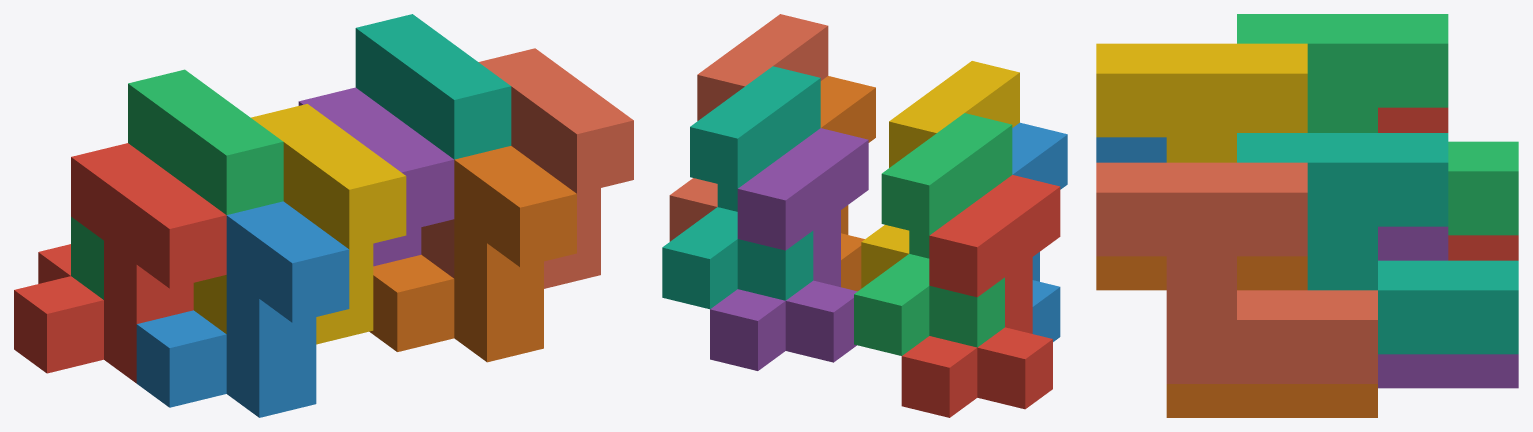
File: tiling.obj
The picture shows the model from 3 angles, left to right: view 1: azimuth 30°, elevation 25°; view 2: azimuth 150°, elevation 25°; view 3: azimuth 270°, elevation 25°; orthographic projection. The views are drawn at different scales.
Parts seen in each view (by area): view 1: copy_1_domain_1, copy_1_domain_2, copy_1_domain_6, copy_1_domain_4, copy_1_domain_8, copy_1_domain_3, copy_1_domain_7, copy_1_domain_5; view 2: copy_1_domain_1, copy_1_domain_5, copy_1_domain_3, copy_1_domain_7, copy_1_domain_8, copy_1_domain_4, copy_1_domain_2, copy_1_domain_6; view 3: copy_1_domain_8, copy_1_domain_7, copy_1_domain_3, copy_1_domain_4, copy_1_domain_6, copy_1_domain_5, copy_1_domain_1, copy_1_domain_2.
Boxes of the visible parts, x1,y1,x2,y2 form: copy_1_domain_1: (14, 143, 226, 383); copy_1_domain_2: (136, 201, 349, 417); copy_1_domain_6: (369, 146, 576, 362); copy_1_domain_4: (193, 104, 406, 344); copy_1_domain_8: (421, 48, 633, 288); copy_1_domain_3: (71, 69, 283, 299); copy_1_domain_7: (355, 14, 511, 159); copy_1_domain_5: (298, 87, 454, 266); copy_1_domain_1: (901, 175, 1060, 417); copy_1_domain_5: (710, 128, 868, 370); copy_1_domain_3: (854, 113, 1012, 355); copy_1_domain_7: (662, 66, 820, 309); copy_1_domain_8: (669, 14, 828, 241); copy_1_domain_4: (861, 61, 1019, 288); copy_1_domain_2: (1012, 122, 1067, 341); copy_1_domain_6: (820, 76, 875, 291); copy_1_domain_8: (1096, 162, 1377, 383); copy_1_domain_7: (1237, 133, 1518, 354); copy_1_domain_3: (1237, 14, 1518, 235); copy_1_domain_4: (1096, 43, 1307, 162); copy_1_domain_6: (1096, 256, 1377, 417); copy_1_domain_5: (1378, 226, 1518, 388); copy_1_domain_1: (1378, 107, 1518, 260); copy_1_domain_2: (1096, 137, 1166, 162).
Bounding box in the file's own units: 8 × 4 × 6.
